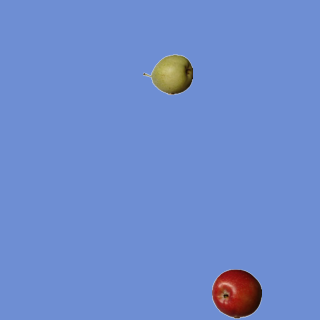Apple Braeburn: (211, 268, 261, 318)
Pear: (142, 49, 192, 99)
